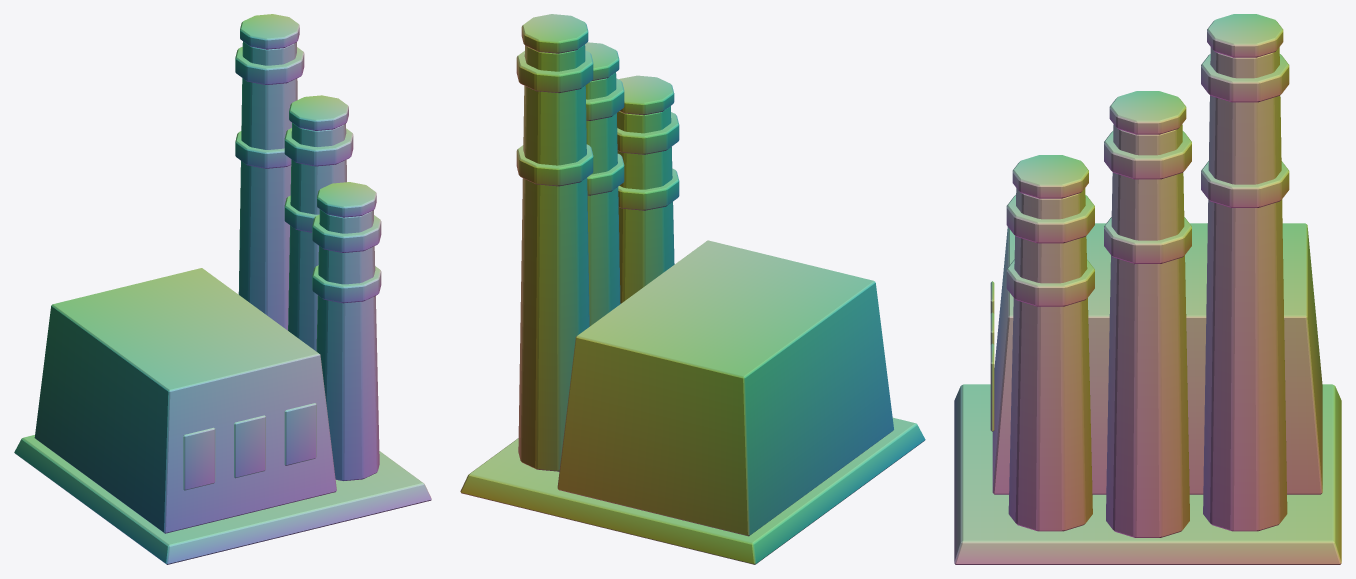
The model's file is addon_core_rig.glb.
3 renders of one model, left to right at view 1: azimuth 30°, elevation 25°; view 2: azimuth 150°, elevation 25°; view 3: azimuth 270°, elevation 25°, orthographic. The views are drawn at different scales.
Parts seen in each view (by area): view 1: body; view 2: body; view 3: body.
Part boxes in pixels (x1,y1,x2,y2): body: (14, 14, 431, 564); body: (460, 14, 925, 564); body: (954, 14, 1341, 564).
Size of the model in its own units: 9.97 by 14.4 by 9.97.
